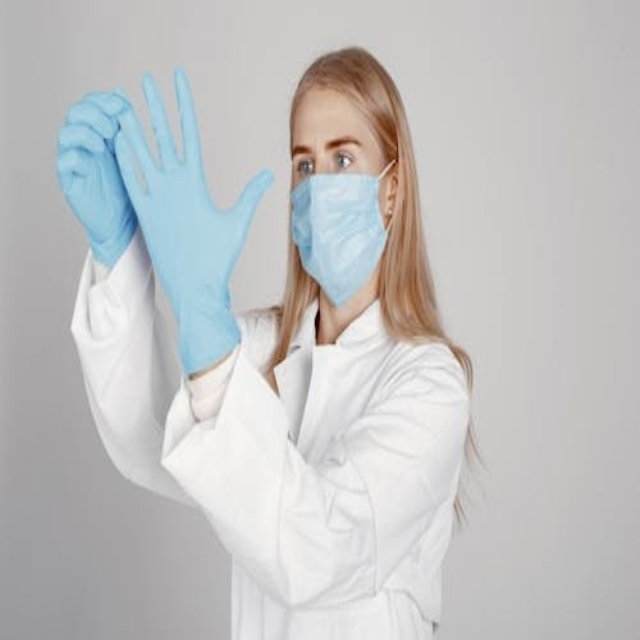Guantes: (110, 64, 274, 378), (55, 87, 140, 271)
Mascara: (290, 159, 395, 305)
Sin_gafas: (284, 129, 375, 175)
